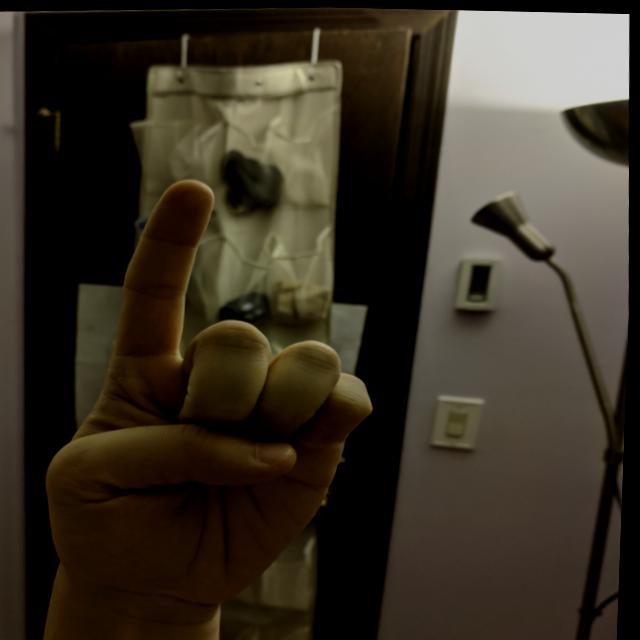D: (28, 165, 397, 620)
